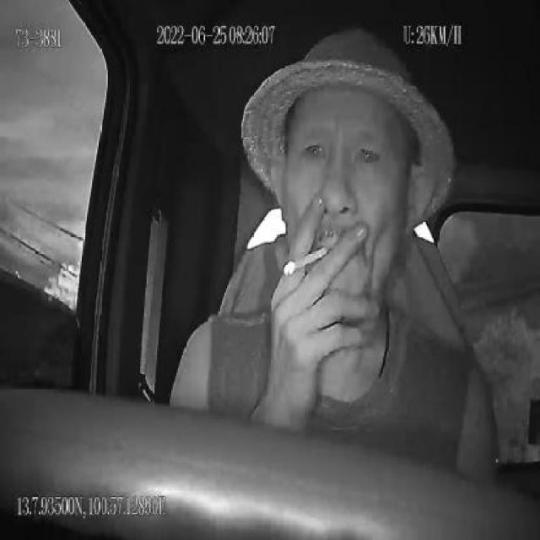smoking: (284, 243, 329, 278)
